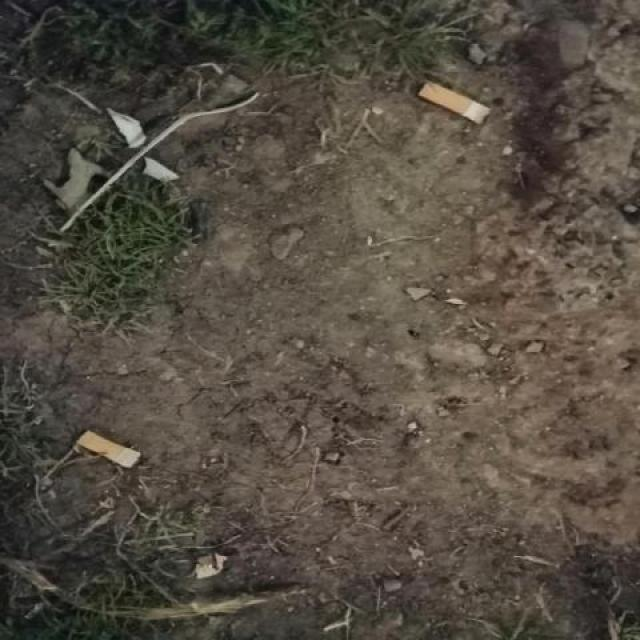non-organic waste: (416, 74, 496, 134), (69, 423, 150, 480)
